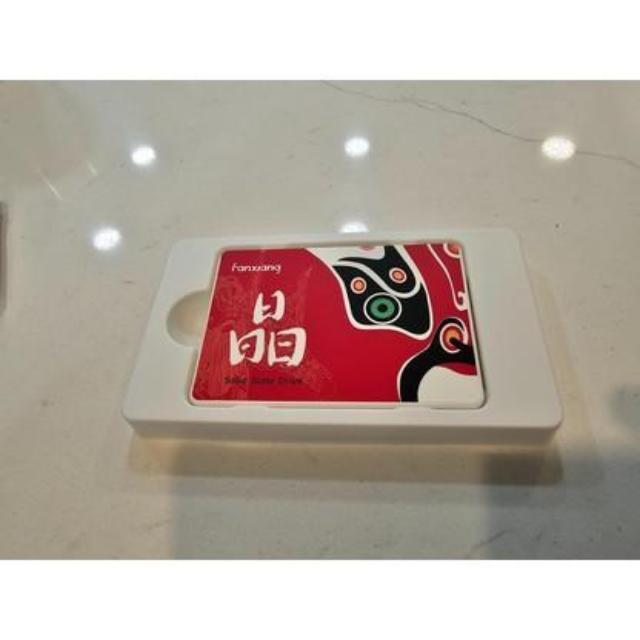DISK: (188, 240, 494, 418)
